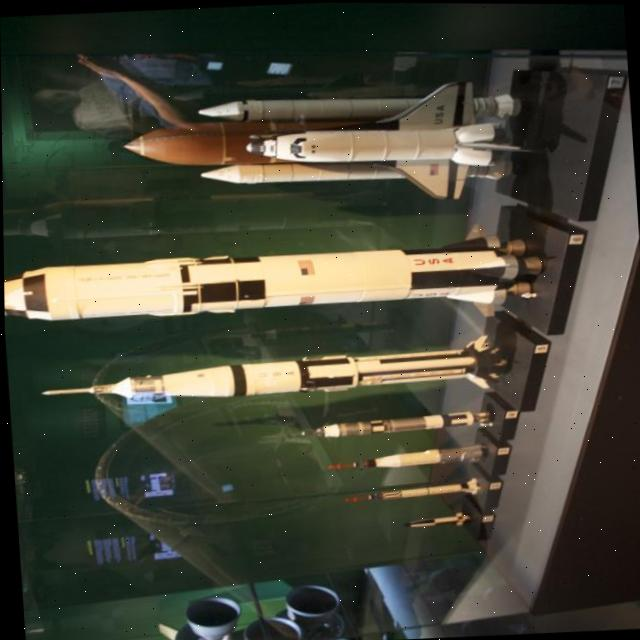missile: (106, 58, 531, 219), (3, 222, 550, 338), (21, 329, 526, 412), (290, 402, 493, 444), (317, 439, 486, 475), (339, 475, 482, 506), (396, 507, 475, 530)
